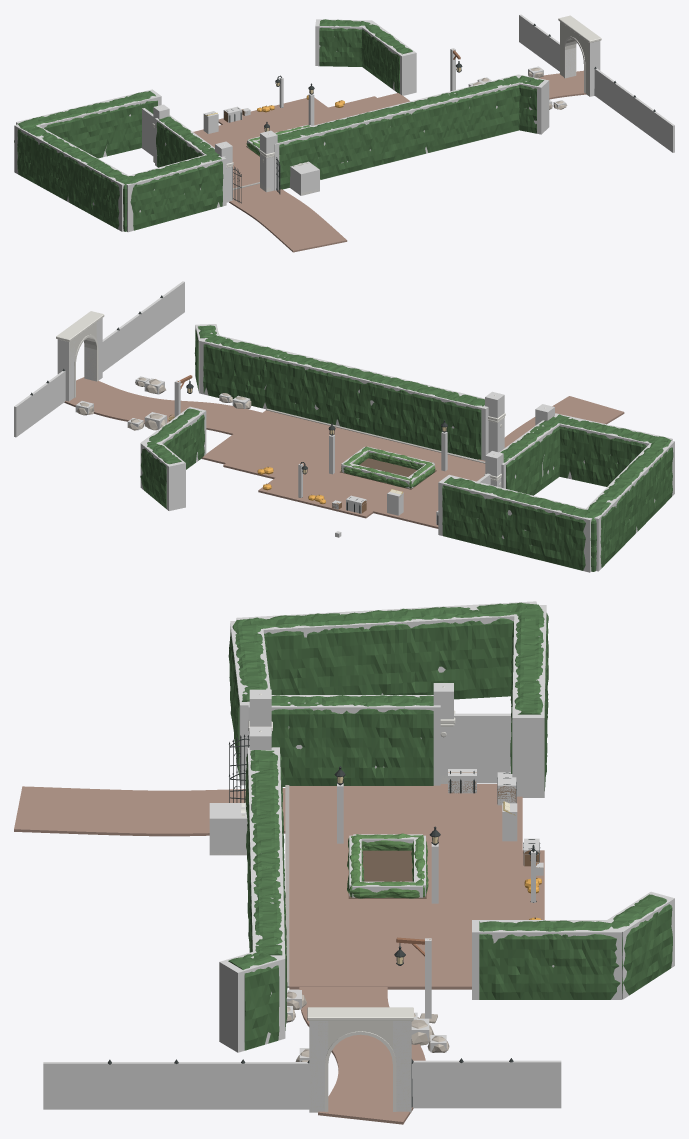
Rendered from AR_Assepoester_omgeving.fbx.
3 renders of one model, top to bottom at view 1: azimuth 30°, elevation 25°; view 2: azimuth 150°, elevation 25°; view 3: azimuth 270°, elevation 25°, orthographic. The views are drawn at different scales.
Visible parts, largest first — view 1: static__MAT_haag_0, static__MAT_haag_1, static__MAT_klinker_0, COLL_36, static__MAT_haag_2, COLL_6, COLL_37, static__MAT_omlijsting_0, COLL_9, static__MAT_stuc_0, COLL_12, COLL_8 (+10 smaller); view 2: static__MAT_haag_0, static__MAT_klinker_0, static__MAT_haag_1, COLL_36, COLL_6, static__MAT_buxus_0, COLL_37, COLL_10, static__MAT_haag_2, static__MAT_omlijsting_0, COLL_13, COLL_9 (+11 smaller); view 3: static__MAT_klinker_0, static__MAT_haag_1, static__MAT_haag_0, COLL_36, COLL_37, static__MAT_haag_2, COLL_10, COLL_17, COLL_7, static__MAT_buxus_0, static__MAT_omlijsting_0, static__MAT_stuc_0 (+15 smaller).
Part boxes in pixels (x1,y1,x2,y2): static__MAT_haag_0: [95, 75, 543, 231]; static__MAT_haag_1: [14, 24, 412, 217]; static__MAT_klinker_0: [193, 70, 586, 252]; COLL_36: [594, 68, 674, 152]; static__MAT_haag_2: [319, 19, 412, 93]; COLL_6: [274, 74, 526, 190]; COLL_37: [519, 14, 559, 71]; static__MAT_omlijsting_0: [152, 15, 601, 202]; COLL_9: [14, 124, 128, 231]; static__MAT_stuc_0: [560, 22, 589, 96]; COLL_12: [361, 20, 416, 95]; COLL_8: [126, 155, 226, 232]; static__MAT_haag_0: [194, 325, 673, 512]; static__MAT_klinker_0: [64, 377, 624, 528]; static__MAT_haag_1: [149, 408, 657, 571]; COLL_36: [102, 281, 184, 371]; COLL_6: [199, 333, 488, 460]; static__MAT_buxus_0: [341, 446, 435, 488]; COLL_37: [14, 371, 65, 437]; COLL_10: [438, 474, 592, 572]; static__MAT_haag_2: [140, 442, 181, 508]; static__MAT_omlijsting_0: [56, 311, 545, 485]; COLL_13: [140, 441, 185, 510]; COLL_9: [585, 440, 674, 571]; static__MAT_klinker_0: [14, 784, 544, 1124]; static__MAT_haag_1: [237, 602, 610, 999]; static__MAT_haag_0: [228, 614, 317, 1050]; COLL_36: [43, 1062, 309, 1109]; COLL_37: [412, 1060, 561, 1108]; static__MAT_haag_2: [610, 894, 672, 999]; COLL_10: [512, 605, 546, 797]; COLL_17: [454, 713, 511, 783]; COLL_7: [219, 952, 284, 1052]; static__MAT_buxus_0: [347, 833, 428, 898]; static__MAT_omlijsting_0: [210, 686, 455, 1111]; static__MAT_stuc_0: [309, 1021, 411, 1112].
Size of the model in its own units: 30.85 by 5.23 by 19.5.
